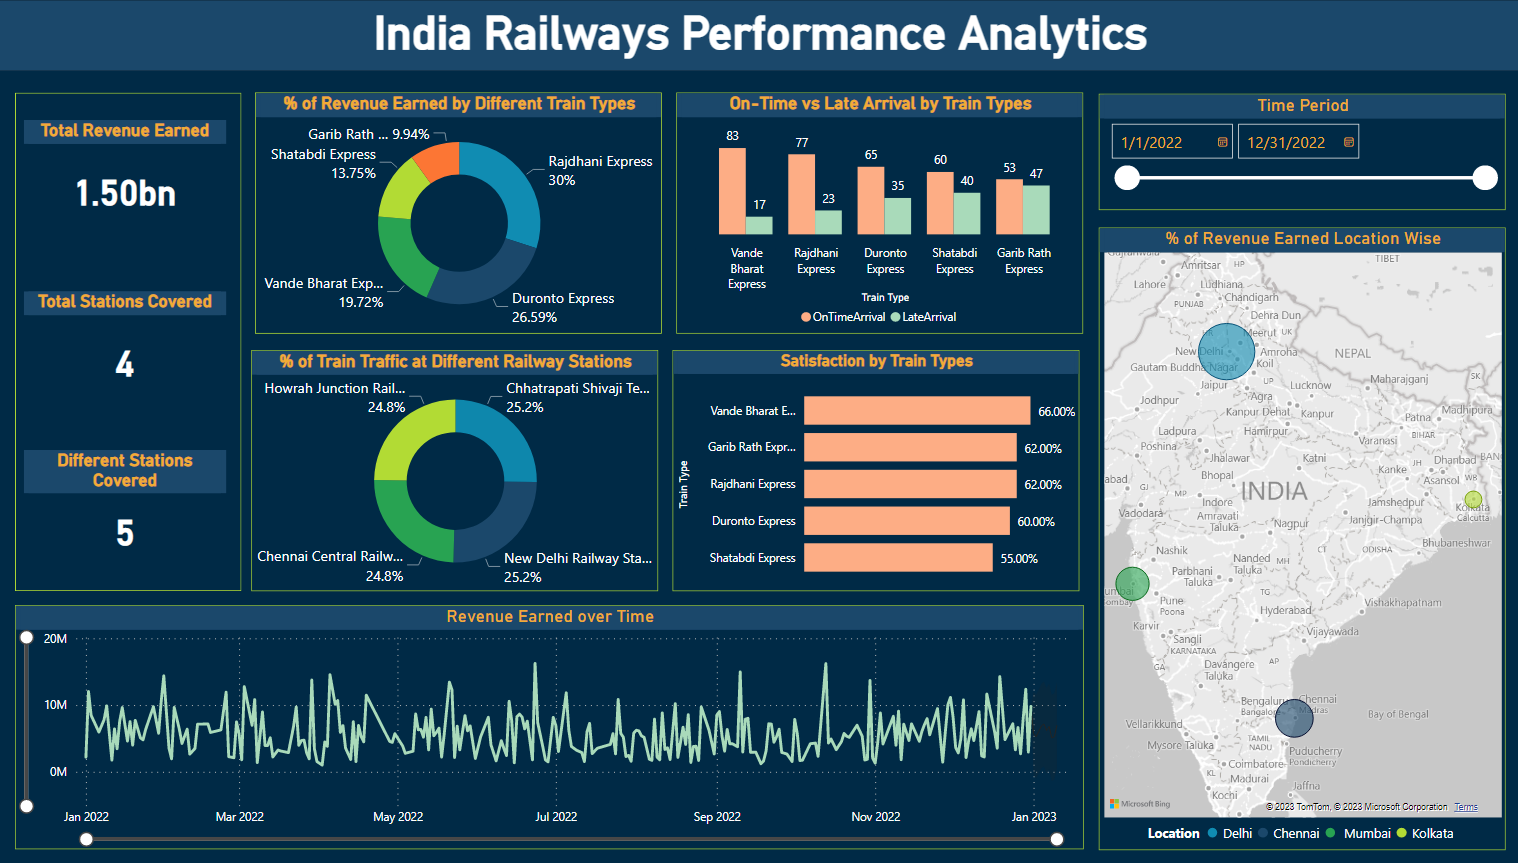

The page's visual inventory and layout, read from the dashboard file:
{"tool":"powerbi","page":{"name":"Railway Analytics","canvas":[1600,900],"ordinal":0},"visuals":[{"type":"shape","box":[0,0,1599.5,73.9],"z":0},{"type":"textbox","title":"India Railways Performance Analytics","box":[0,7.1,1600.4,67.5],"z":1000},{"type":"card","title":"Total Stations Covered","fields":{"Values":["Count(Station_Lookup.Station ID)"]},"box":[35,302.5,210,125],"z":2000},{"type":"card","title":"Total Revenue Earned","fields":{"Values":["Measures_Table.TotalRevenue"]},"box":[35,125,210,125],"z":3000},{"type":"card","title":"Different Stations Covered","fields":{"Values":["Count(Train_Lookup.Train Type)"]},"box":[35,467.5,210,125],"z":4000},{"type":"donutChart","title":"% of Revenue Earned by Different Train Types","fields":{"Y":["Measures_Table.% wise Revenue Earned"],"Category":["Train_Lookup.Train Type"]},"box":[275.6,96.3,422.7,250],"z":5000},{"type":"donutChart","title":"% of Train Traffic at Different Railway Stations","fields":{"Y":["Measures_Table.% of Train Traffic at different Railway Stations"],"Category":["Station_Lookup.Station Name"]},"box":[271.8,363.5,422.7,250.4],"z":6000},{"type":"clusteredColumnChart","title":"On-Time vs Late Arrival by Train Types","fields":{"Category":["Train_Lookup.Train Type"],"Y":["Measures_Table.OnTimeArrival","Measures_Table.LateArrival"]},"box":[712.5,96.3,422.7,250.4],"z":7000},{"type":"clusteredBarChart","title":"Satisfaction by Train Types","fields":{"Category":["Train_Lookup.Train Type"],"Y":["Measures_Table.Satisfaction by Train Type"]},"box":[708.7,363.5,422.7,250.4],"z":8000},{"type":"shape","box":[26.3,96.5,235,517.5],"z":9000},{"type":"lineChart","title":"Revenue Earned over Time","fields":{"Y":["Measures_Table.TotalRevenue"],"Category":["DateLookup.Date.Variation.Date Hierarchy.Year","DateLookup.Date.Variation.Date Hierarchy.Quarter","DateLookup.Date.Variation.Date Hierarchy.Month","DateLookup.Date.Variation.Date Hierarchy.Day"]},"box":[25.6,628.6,1109.5,253.3],"z":10000},{"type":"map","title":"% of Revenue Earned Location Wise","fields":{"Size":["Measures_Table.% wise Revenue Earned"],"Category":["Station_Lookup.Location"],"Series":["Station_Lookup.Location"]},"box":[1151.3,235.5,422.7,646.5],"z":11000},{"type":"slicer","title":"Time Period","fields":{"Values":["DateLookup.Date"]},"box":[1151.3,97,422.7,120.8],"z":12000}]}

Visuals, with their boxes in screenshot pixels (x1, y1, x2, y2), scaled from the page's 1600x900 canvas onto the 1518x863 screenshot:
shape: <bbox>0, 0, 1517, 71</bbox>
"India Railways Performance Analytics" textbox: <bbox>0, 7, 1517, 72</bbox>
"Total Stations Covered" card: <bbox>33, 290, 232, 410</bbox>
"Total Revenue Earned" card: <bbox>33, 120, 232, 240</bbox>
"Different Stations Covered" card: <bbox>33, 448, 232, 568</bbox>
"% of Revenue Earned by Different Train Types" donutChart: <bbox>261, 92, 663, 332</bbox>
"% of Train Traffic at Different Railway Stations" donutChart: <bbox>258, 349, 659, 589</bbox>
"On-Time vs Late Arrival by Train Types" clusteredColumnChart: <bbox>676, 92, 1077, 332</bbox>
"Satisfaction by Train Types" clusteredBarChart: <bbox>672, 349, 1073, 589</bbox>
shape: <bbox>25, 93, 248, 589</bbox>
"Revenue Earned over Time" lineChart: <bbox>24, 603, 1077, 846</bbox>
"% of Revenue Earned Location Wise" map: <bbox>1092, 226, 1493, 846</bbox>
"Time Period" slicer: <bbox>1092, 93, 1493, 209</bbox>
